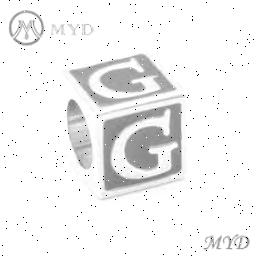g: (106, 108, 182, 182), (86, 57, 164, 103)
